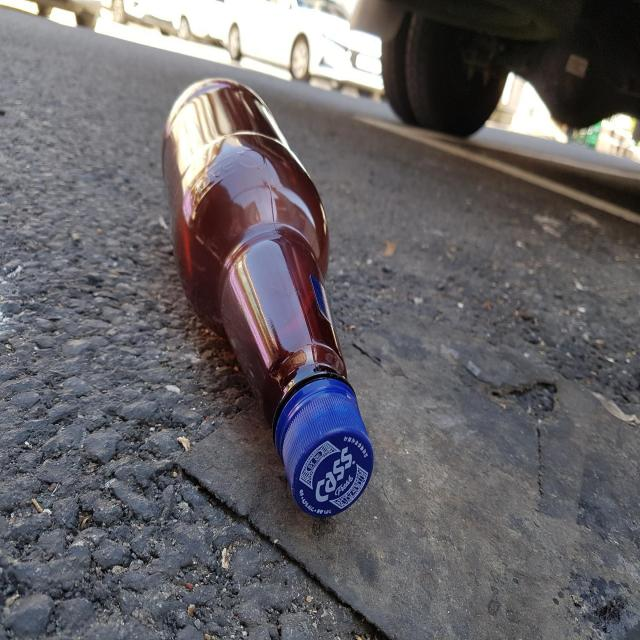plastic: (162, 78, 374, 518)
